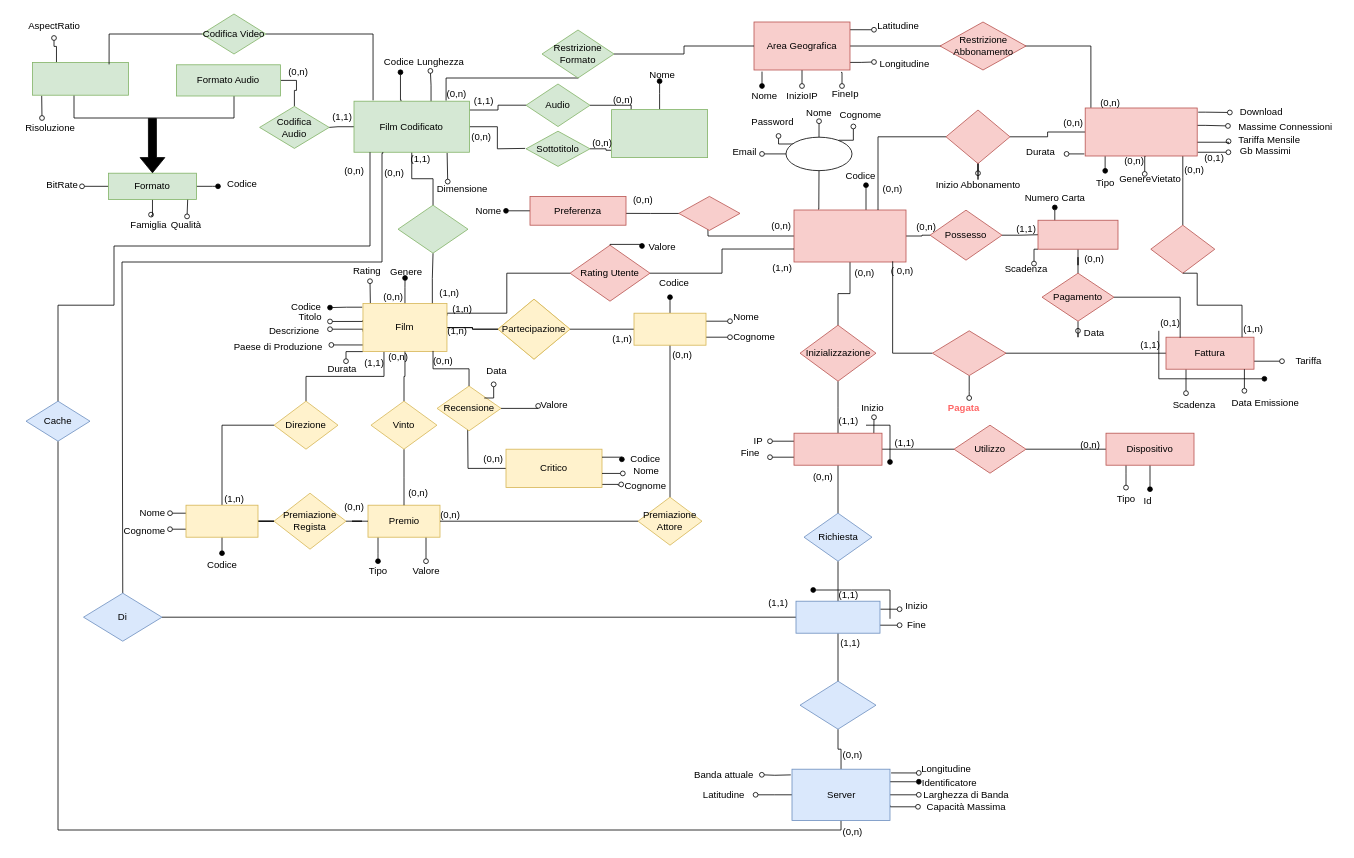
Image size: 1354x858. Some labels were removed from this diagram. Here are the shapes that lost their labels. From the top down, the centre of each, then its label:
At (80,78): "Formato Video".
At (659,133): "Lingua".
At (977,136): "Acquisto".
At (1140,131): "Abbonamento".
At (818,153): "Informazioni Personali".
At (432,228): "Codifica".
At (709,213): "Selezione".
At (849,235): "Utente".
At (1077,234): "Dati Fatturazione".
At (1182,248): "Servizio".
At (669,328): "Attori".
At (969,353): "UtenteFattura".
At (837,448): "Connessione".
At (221,520): "Regista".
At (837,616): "Visualizzazione".
At (837,704): "Utilizzo di".
